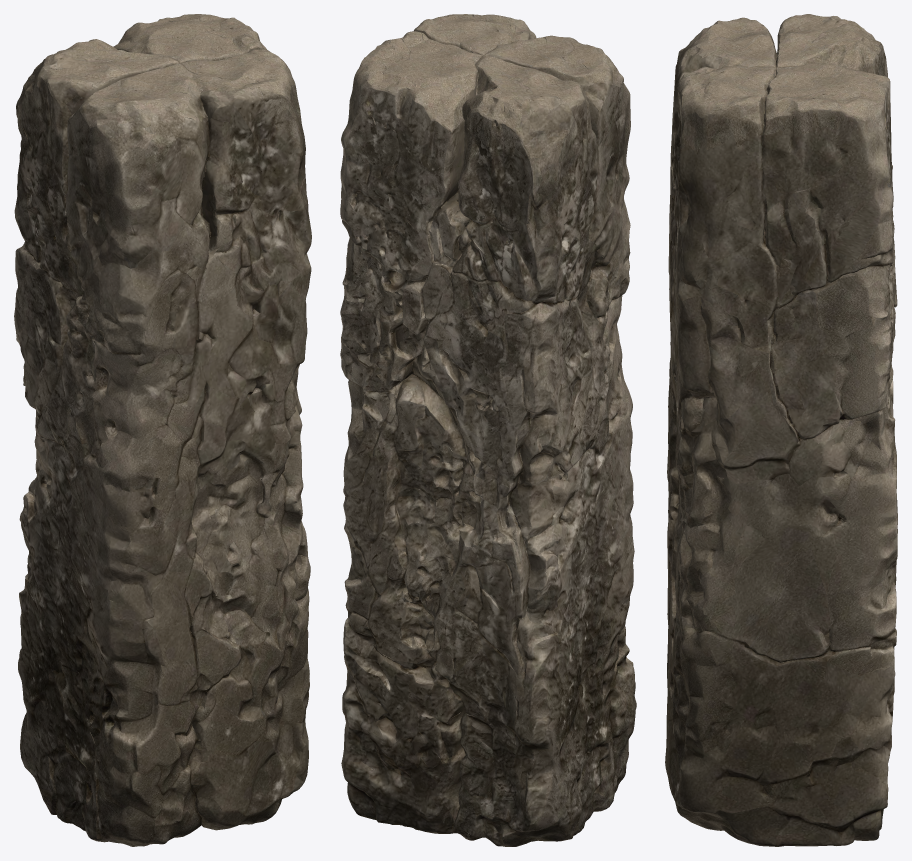
The model's file is pillar.glb.
The picture shows the model from 3 angles, left to right: view 1: azimuth 30°, elevation 25°; view 2: azimuth 150°, elevation 25°; view 3: azimuth 270°, elevation 25°; orthographic projection.
Visible parts, largest first — view 1: mesh_node; view 2: mesh_node; view 3: mesh_node.
Part boxes in pixels (x1,y1,x2,y2): mesh_node: [14, 14, 311, 846]; mesh_node: [340, 14, 636, 846]; mesh_node: [665, 14, 897, 846].
Size of the model in its own units: 0.5747 by 1.9 by 0.5392.
Materials: 1 (1 with a texture image).
